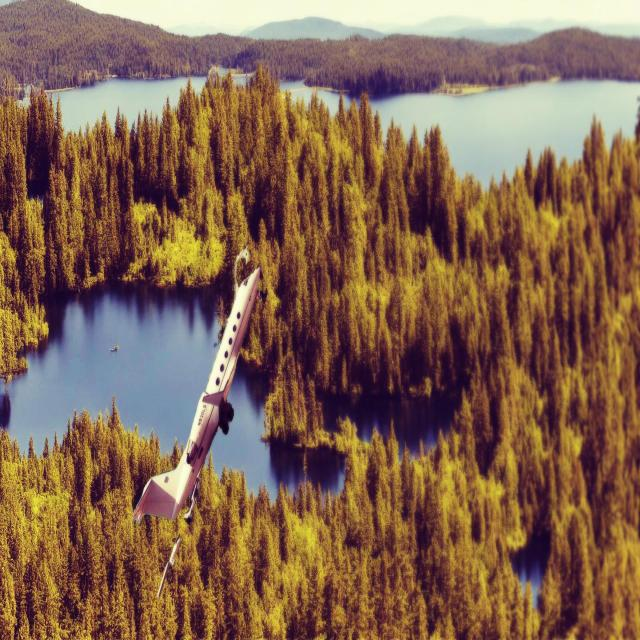airplane: (131, 246, 262, 597)
